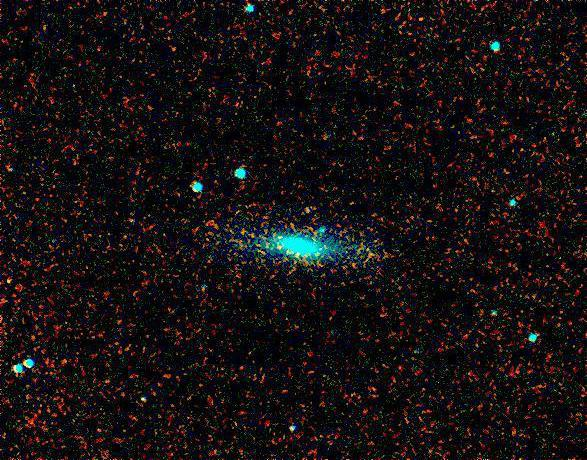star: (265, 232, 295, 262)
